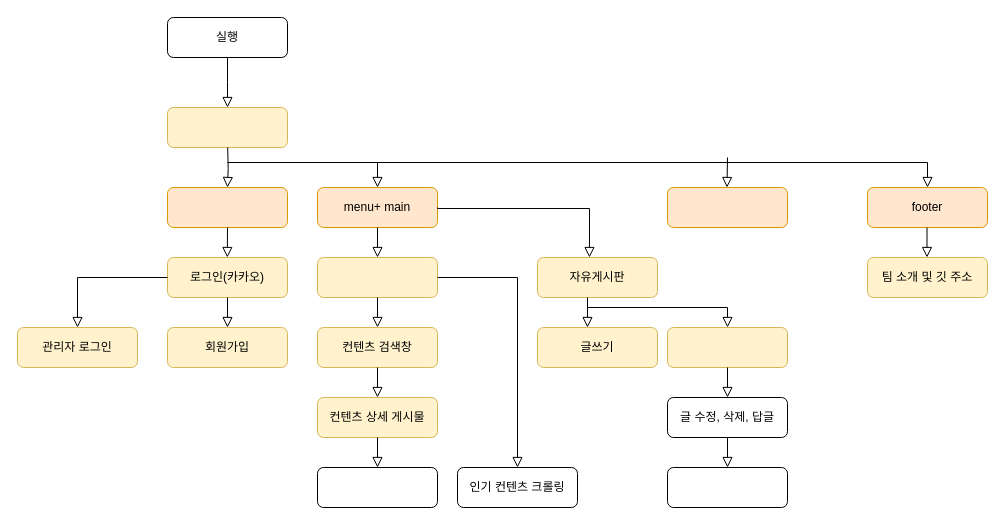
Some shapes in this 1005 by 525 pixel diagram are drawn without their labels. The box of each missing label's shape, as (x1, y1, x2, y2) in pixels:
header: (166, 186, 288, 228)
넷플릭스 컨텐츠: (316, 256, 438, 298)
리뷰, 평점: (316, 466, 438, 508)
마이페이지: (666, 186, 788, 228)
메인화면: (166, 106, 288, 148)
상세 게시글: (666, 326, 788, 368)
조회수: (666, 466, 788, 508)
